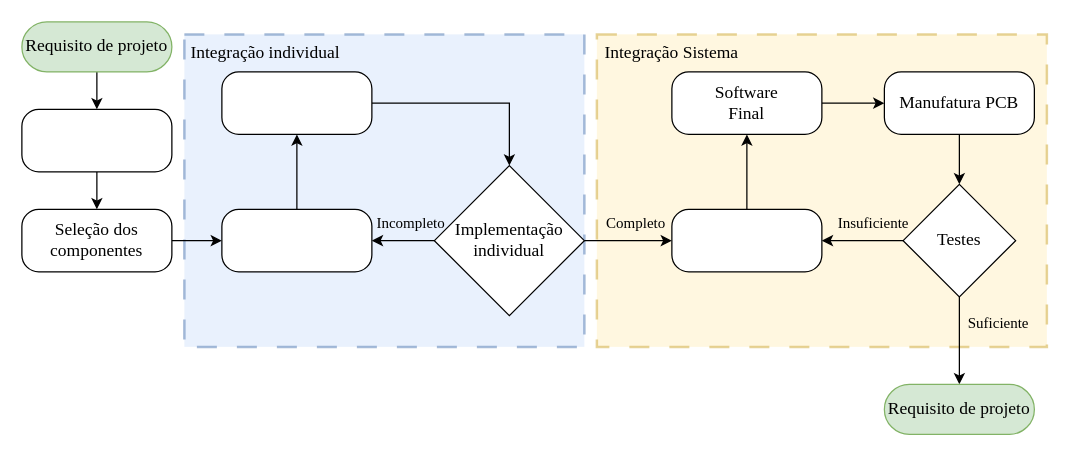
Some shapes in this 1070 by 456 pixel diagram are drawn without their labels. The shapes that lost their labels are listed below. From the top down, each one's centre as x and y in pixels, then its label:
At [296,102]: "Software".
At [96,140]: "Estruturação do conceito".
At [296,240]: "Hardware".
At [746,240]: "PCB".
